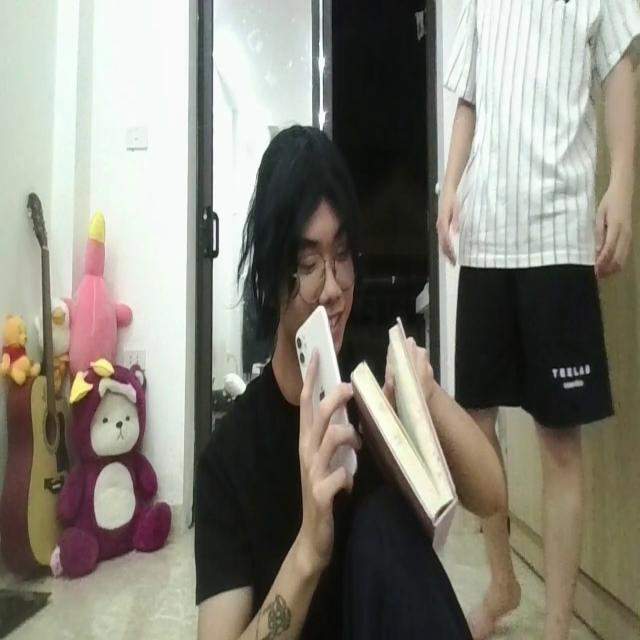book: (350, 300, 461, 550)
extra_person: (442, 0, 640, 640)
phone: (294, 309, 360, 497)
student: (186, 122, 504, 640)
